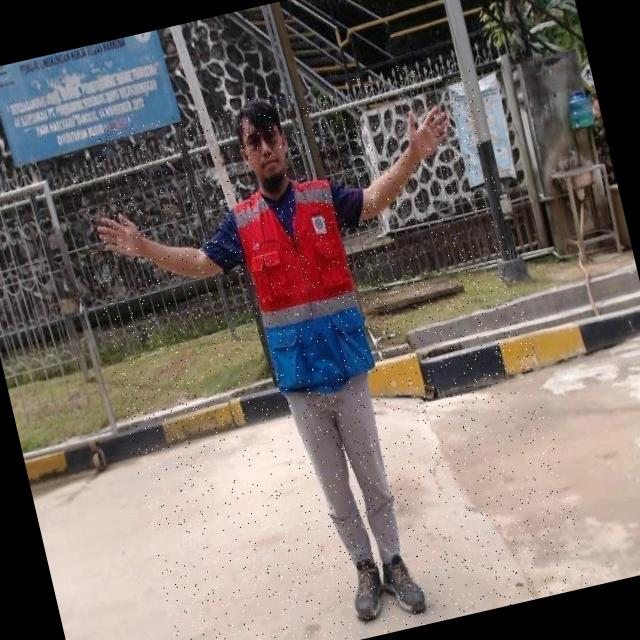safety_vest: (228, 168, 379, 396)
vehicle: (60, 47, 589, 640)
work_boots: (376, 542, 432, 620), (345, 552, 391, 626)
